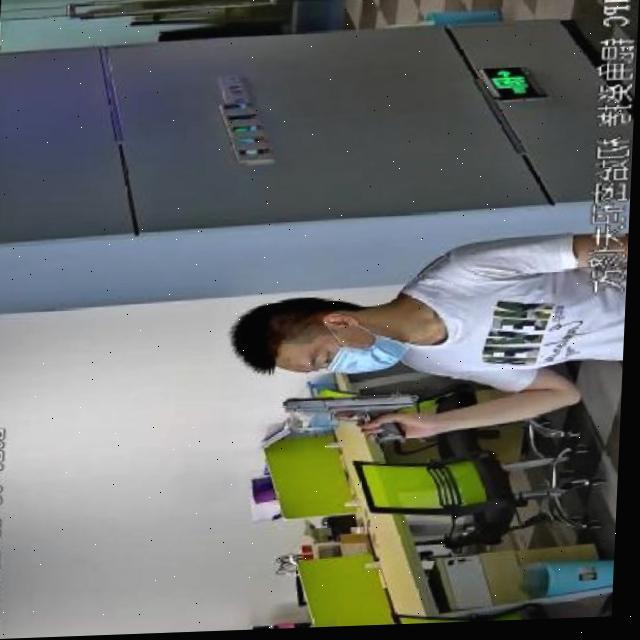gun: (263, 392, 447, 447)
